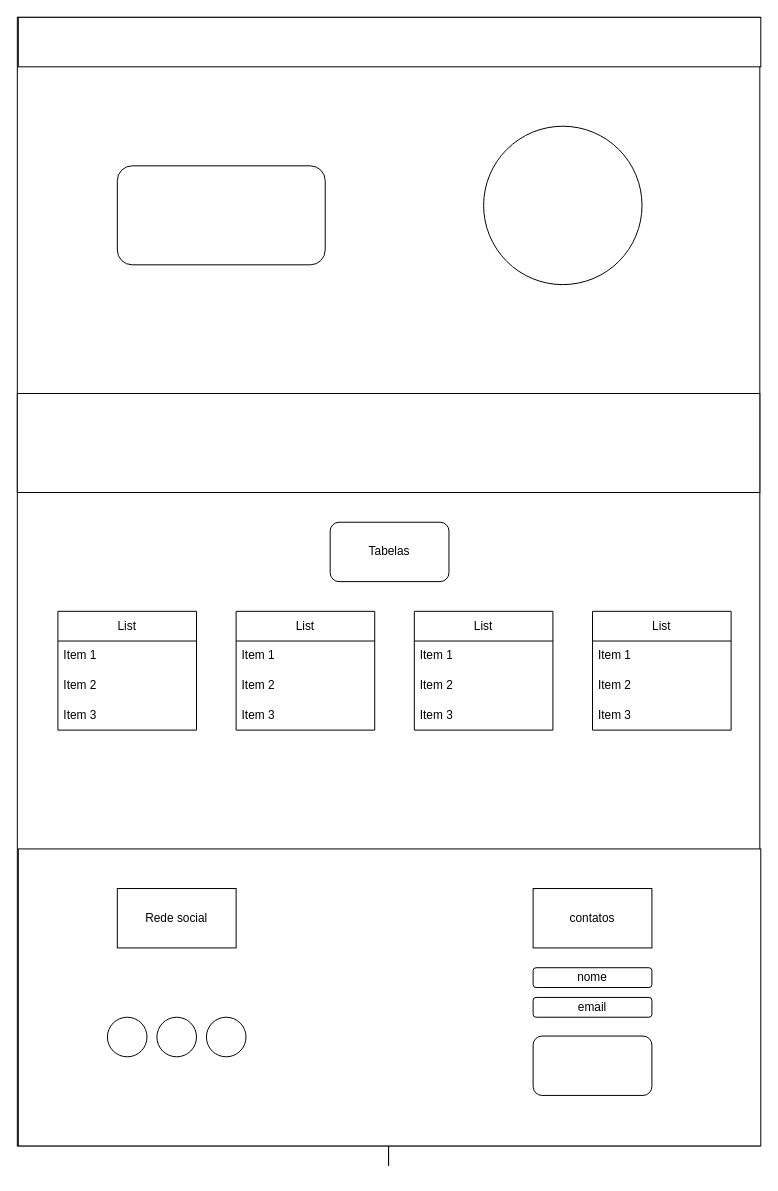
Some shapes in this 778 by 1191 pixel diagram are drawn without their labels. Here are the shapes that lost their labels. From the top down, the centre of each, then its label:
At (389,41): "header".
At (220,215): "Apresentação".
At (562,205): "Foto".
At (388,443): "Habilidades".
At (592,1065): "descrição".
